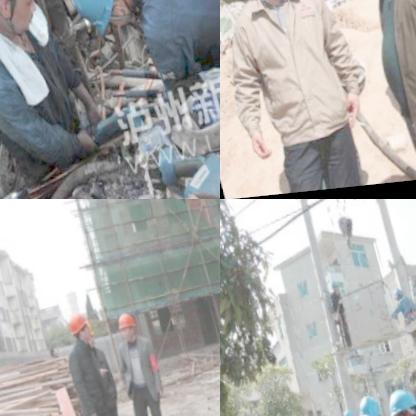helmet: (45, 0, 144, 49), (59, 310, 90, 353), (107, 311, 136, 350), (376, 388, 416, 416), (350, 393, 382, 416), (386, 289, 406, 312), (325, 280, 340, 302), (332, 408, 355, 416)
